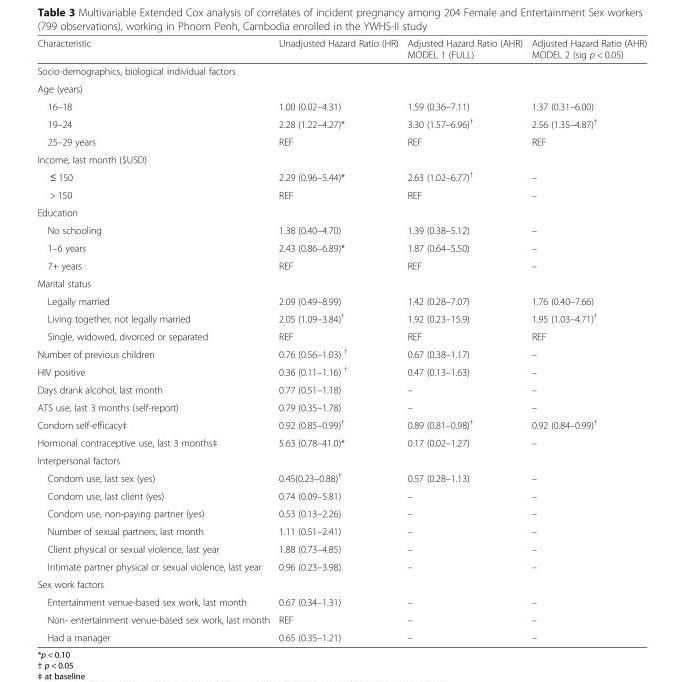table: (36, 37, 646, 642)
table column: (36, 37, 273, 642), (273, 37, 402, 642), (402, 37, 526, 642), (526, 37, 646, 642)
table column header: (36, 37, 646, 62)
table projected row header: (36, 79, 646, 97), (36, 203, 646, 221), (36, 62, 646, 79), (36, 150, 646, 167), (36, 274, 646, 291), (36, 451, 646, 468), (36, 575, 646, 592)
table row: (36, 37, 646, 62), (36, 308, 646, 327), (36, 361, 646, 380), (36, 79, 646, 97), (36, 114, 646, 132), (36, 132, 646, 150), (36, 167, 646, 185), (36, 185, 646, 203), (36, 203, 646, 221), (36, 238, 646, 256), (36, 256, 646, 274), (36, 380, 646, 398), (36, 415, 646, 433), (36, 433, 646, 451), (36, 468, 646, 486), (36, 486, 646, 504), (36, 504, 646, 522), (36, 539, 646, 557), (36, 557, 646, 575), (36, 592, 646, 610), (36, 610, 646, 628), (36, 62, 646, 79), (36, 97, 646, 114), (36, 150, 646, 167), (36, 221, 646, 238), (36, 274, 646, 291), (36, 291, 646, 308), (36, 327, 646, 344), (36, 344, 646, 361), (36, 398, 646, 415), (36, 451, 646, 468), (36, 522, 646, 539), (36, 575, 646, 592), (36, 628, 646, 642)
